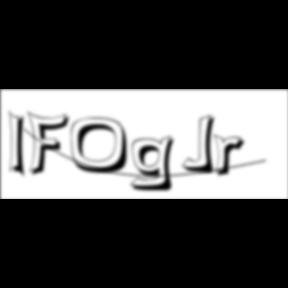F: (27, 110, 75, 178)
J: (182, 114, 222, 176)
O: (70, 117, 136, 176)
g: (130, 134, 182, 194)
l: (9, 108, 32, 182)
r: (214, 134, 252, 180)
